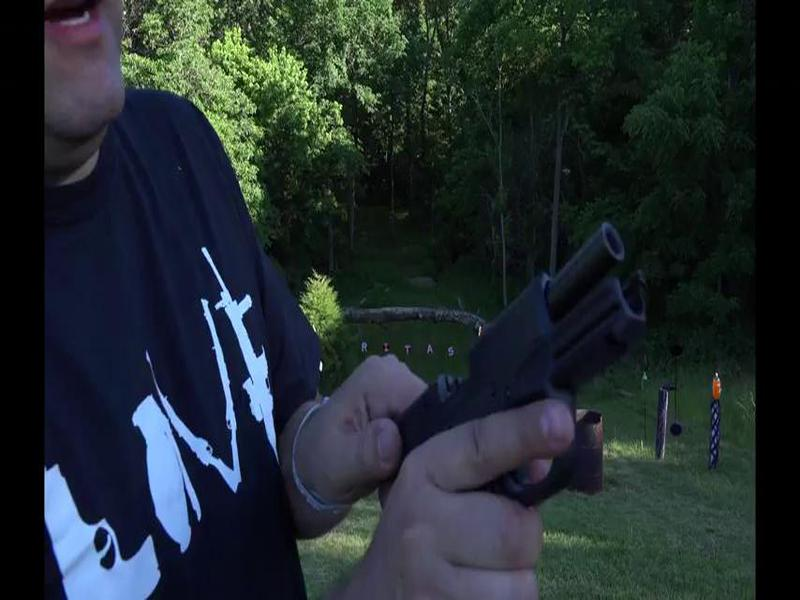Pistola: (371, 222, 677, 524)
